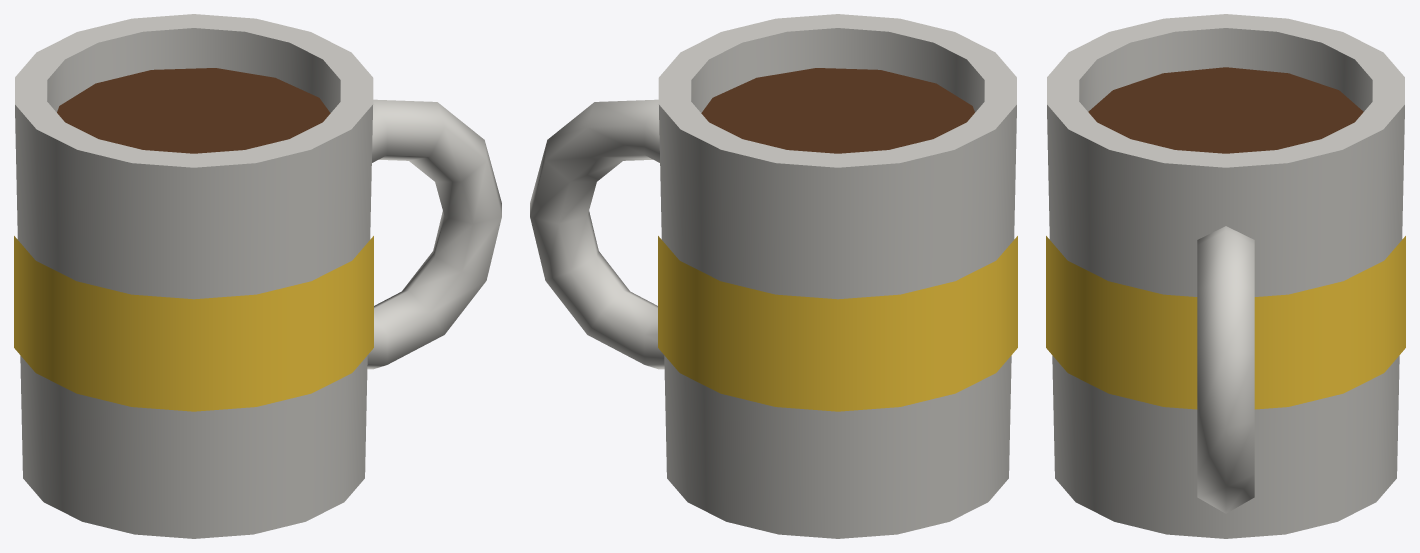
Rendered from coffee_mug.glb.
3 renders of one model, left to right at view 1: azimuth 30°, elevation 25°; view 2: azimuth 150°, elevation 25°; view 3: azimuth 270°, elevation 25°, orthographic.
Parts seen in each view (by area): view 1: main; view 2: main; view 3: main.
Part boxes in pixels (left/top/right/bottom): main: left=14, top=14, right=501, bottom=538; main: left=530, top=14, right=1017, bottom=538; main: left=1046, top=14, right=1405, bottom=538.
Size of the model in its own units: 0.1302 by 0.1 by 0.0871.
